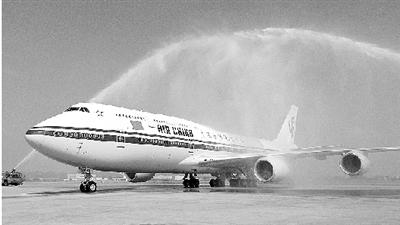airplane: (15, 101, 400, 193)
